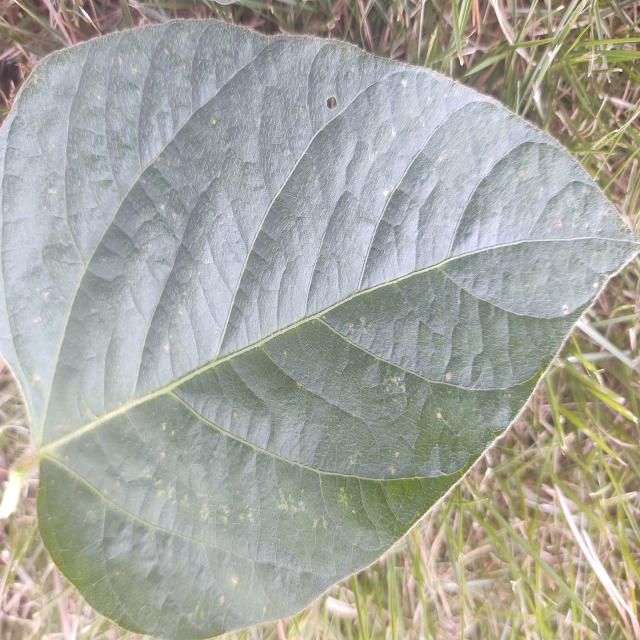Soybean: (0, 19, 640, 640)
downey_mildew: (175, 425, 305, 608), (361, 79, 448, 216), (333, 444, 429, 565), (1, 122, 71, 255), (129, 136, 199, 256), (139, 399, 210, 487), (224, 301, 326, 357), (127, 17, 287, 49), (416, 368, 469, 446), (260, 188, 310, 249), (313, 278, 370, 319), (274, 485, 308, 521), (472, 429, 506, 464), (383, 375, 405, 395), (548, 42, 562, 62), (337, 487, 350, 508), (32, 373, 41, 384), (429, 470, 442, 477), (562, 304, 569, 314), (296, 381, 304, 389), (400, 79, 408, 87), (382, 188, 389, 197), (389, 465, 395, 475), (620, 224, 627, 232), (445, 373, 452, 381), (32, 75, 38, 84), (390, 128, 396, 137), (518, 170, 525, 177), (210, 118, 217, 125), (33, 317, 41, 323), (593, 281, 599, 289), (132, 66, 138, 74), (161, 422, 166, 431), (118, 56, 123, 65), (436, 412, 442, 419), (394, 451, 400, 458), (603, 210, 609, 216), (164, 344, 169, 351), (160, 204, 165, 210), (161, 452, 166, 458), (178, 309, 183, 315), (351, 509, 356, 514), (321, 314, 326, 319), (171, 430, 175, 436), (507, 393, 511, 398)
